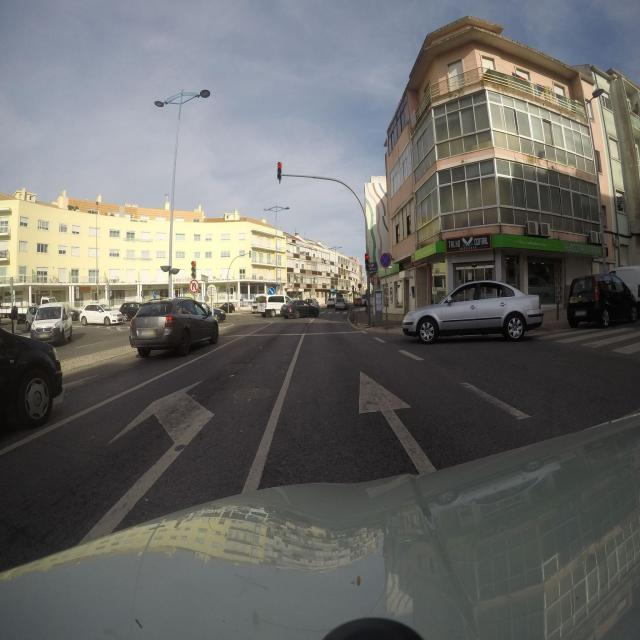car: (401, 279, 544, 344), (0, 309, 63, 441), (129, 297, 219, 358), (566, 272, 640, 328), (29, 306, 73, 344), (79, 304, 123, 326), (280, 297, 320, 319), (264, 294, 290, 318), (119, 302, 145, 321), (25, 304, 43, 330), (252, 293, 272, 315), (334, 298, 349, 312), (354, 296, 366, 307), (326, 297, 336, 308)
